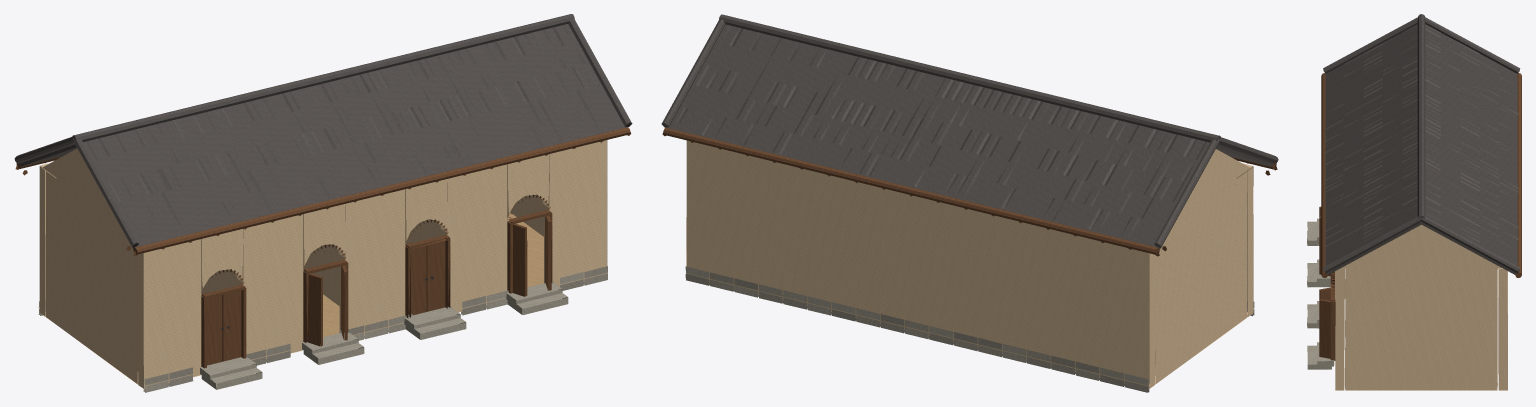
File: xibaipo-object.glb
3 renders of one model, left to right at view 1: azimuth 30°, elevation 25°; view 2: azimuth 150°, elevation 25°; view 3: azimuth 270°, elevation 25°, orthographic. The views are drawn at different scales.
Visible parts, largest first — view 1: xibaipo-object-complete-environment; view 2: xibaipo-object-complete-environment; view 3: xibaipo-object-complete-environment.
Boxes of the visible parts, x1=… form: xibaipo-object-complete-environment: x1=14, y1=14, x2=632, y2=392; xibaipo-object-complete-environment: x1=661, y1=14, x2=1278, y2=392; xibaipo-object-complete-environment: x1=1307, y1=14, x2=1521, y2=390.
Size of the model in its own units: 1 by 0.4258 by 0.4487.
Materials: 14 (14 with a texture image).
